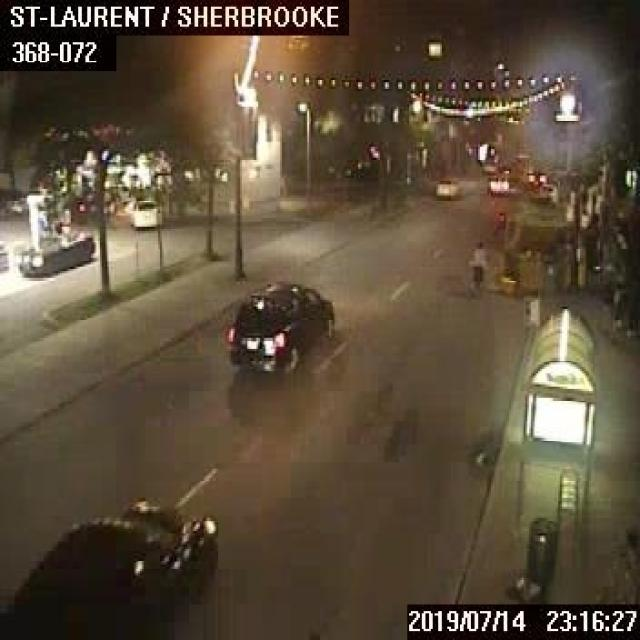pedestrian: (469, 239, 484, 289)
vehicle: (0, 496, 220, 638), (222, 278, 334, 376), (14, 228, 94, 272), (130, 198, 162, 228), (433, 173, 460, 198), (486, 172, 508, 192), (480, 154, 500, 172)
